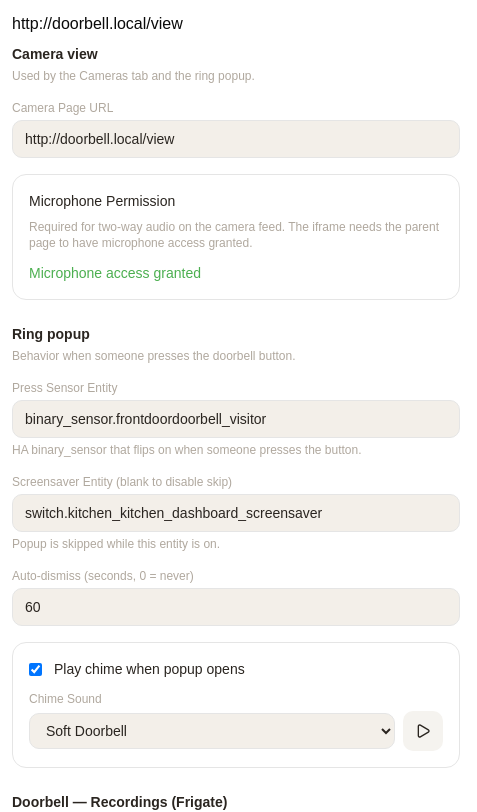
it: CamerasSettings › does not overwrite an in-progress edit when the config query refreshes
Replace the text in the field showing "http://doorbell.local/view" below "Camera Page URL" with "http://still-typing" at [236, 139], box top-left (12, 120), bottom-right (460, 158)
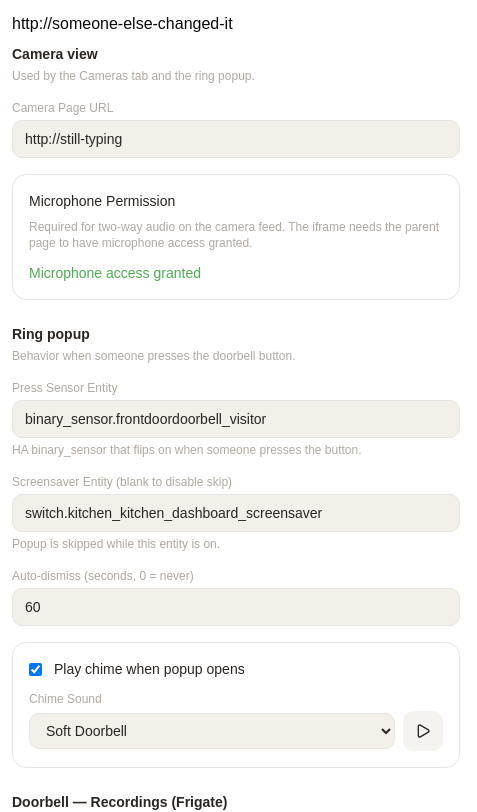
Now the text with test id "probe" reads "http://someone-else-changed-it", box top-left (12, 15), bottom-right (233, 32)
